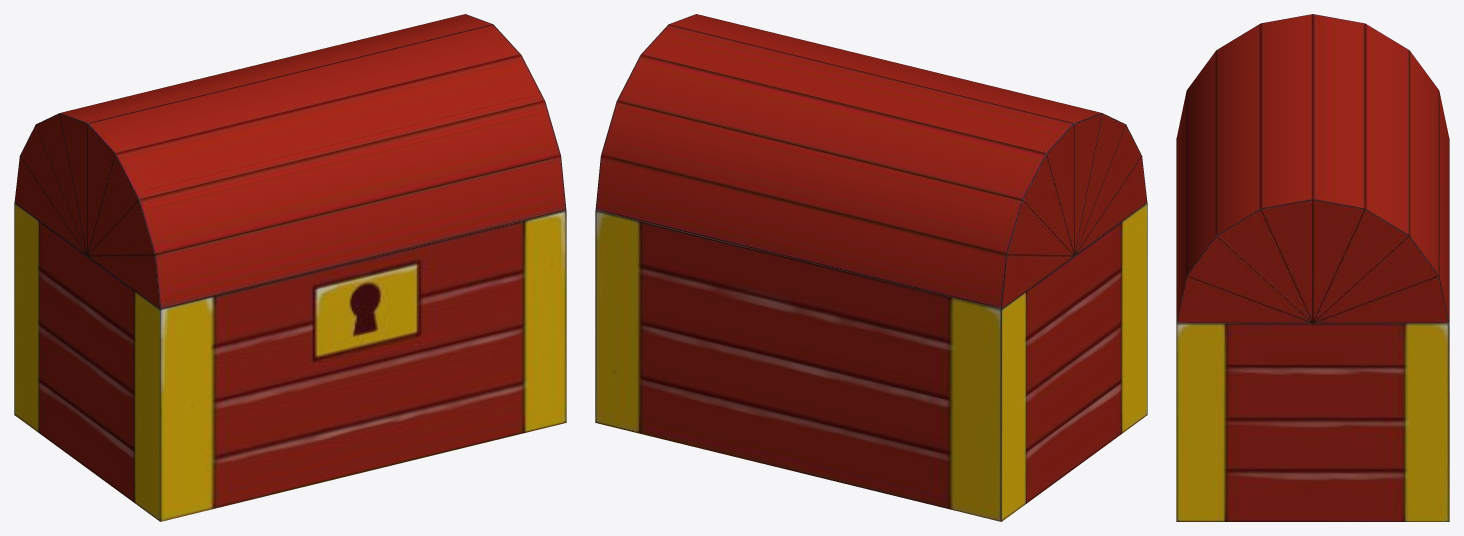
Rendered from treasure@open.fbx.
3 views of the same model, side by side, from view 1: azimuth 30°, elevation 25°; view 2: azimuth 150°, elevation 25°; view 3: azimuth 270°, elevation 25° (orthographic). The views are drawn at different scales.
Parts seen in each view (by area): view 1: pCube1, pCylinder2; view 2: pCube1, pCylinder2; view 3: pCylinder2, pCube1.
Part boxes in pixels (bbox=[...]): pCube1: bbox=[14, 203, 566, 521]; pCylinder2: bbox=[14, 14, 566, 309]; pCube1: bbox=[595, 203, 1147, 521]; pCylinder2: bbox=[595, 14, 1147, 309]; pCylinder2: bbox=[1176, 14, 1449, 323]; pCube1: bbox=[1176, 138, 1449, 521].
Bounding box in the file's own units: 106 × 86.06 × 66.
2 materials, 2 textured.
